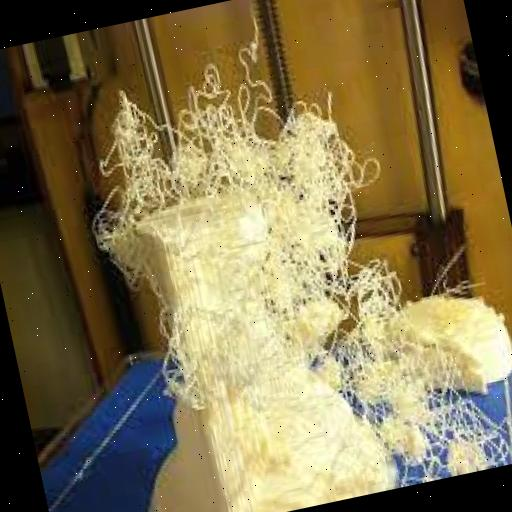spaghetti: (50, 30, 414, 366)
